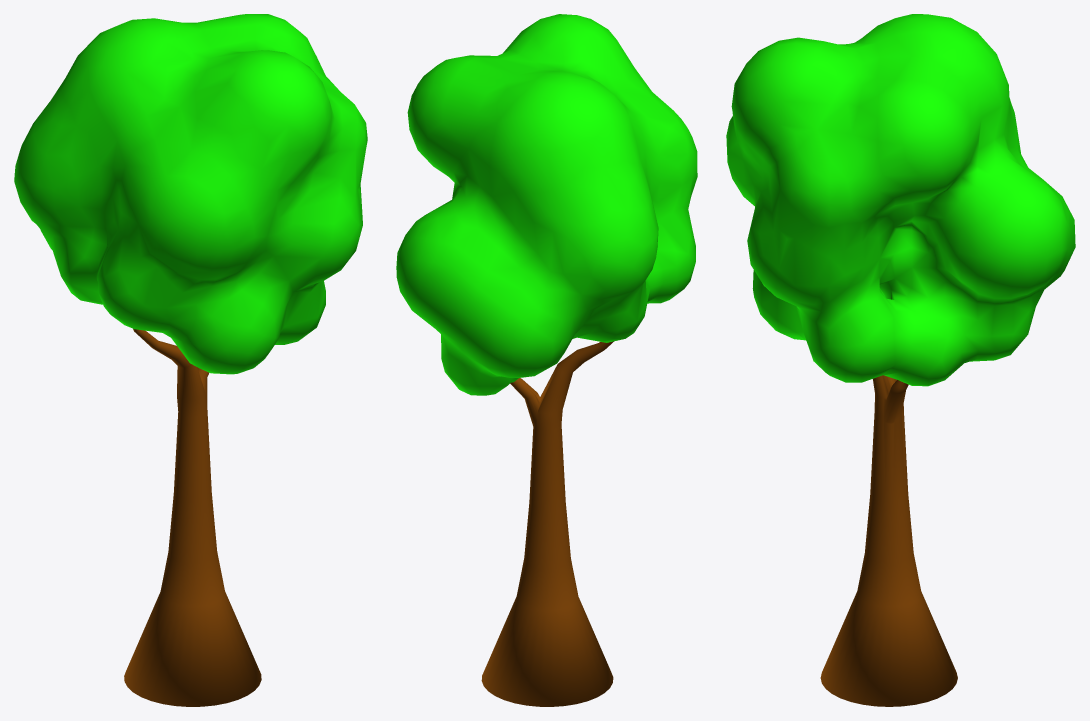
The model's file is Tree.fbx.
3 renders of one model, left to right at view 1: azimuth 30°, elevation 25°; view 2: azimuth 150°, elevation 25°; view 3: azimuth 270°, elevation 25°, orthographic. The views are drawn at different scales.
Visible parts, largest first — view 1: Mball.020, Cylinder; view 2: Mball.020, Cylinder; view 3: Mball.020, Cylinder.
Boxes of the visible parts, x1,y1,x2,y2 form: Mball.020: (14,14,367,374); Cylinder: (124,329,261,706); Mball.020: (396,14,697,395); Cylinder: (481,341,613,706); Mball.020: (726,14,1075,386); Cylinder: (820,375,957,706).
Size of the model in its own units: 2151 by 4831 by 2364.
